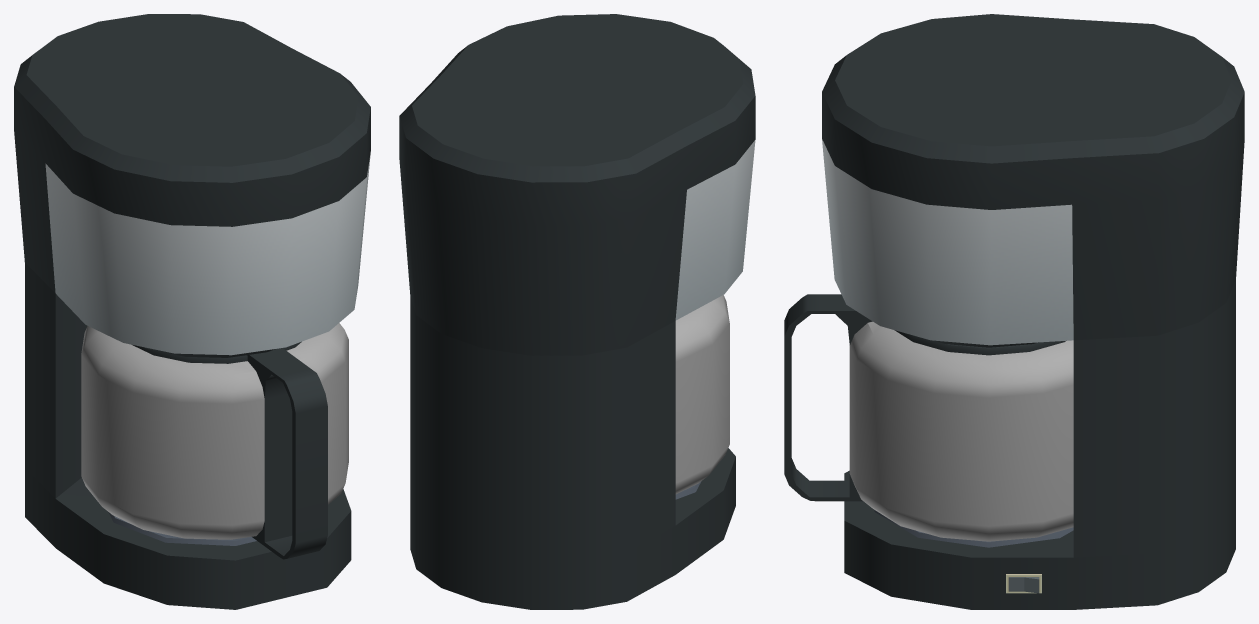
Rendered from Coffee Maker.fbx.
The picture shows the model from 3 angles, left to right: view 1: azimuth 30°, elevation 25°; view 2: azimuth 150°, elevation 25°; view 3: azimuth 270°, elevation 25°; orthographic projection. The views are drawn at different scales.
Visible parts, largest first — view 1: pCylinder3; view 2: pCylinder3; view 3: pCylinder3.
Part boxes in pixels (x1=…): pCylinder3: x1=14, y1=14, x2=370, y2=609; pCylinder3: x1=399, y1=14, x2=755, y2=609; pCylinder3: x1=784, y1=14, x2=1244, y2=609.
Size of the model in its own units: 26.13 by 39.84 by 35.45.
Materials: 2 (1 with a texture image).
